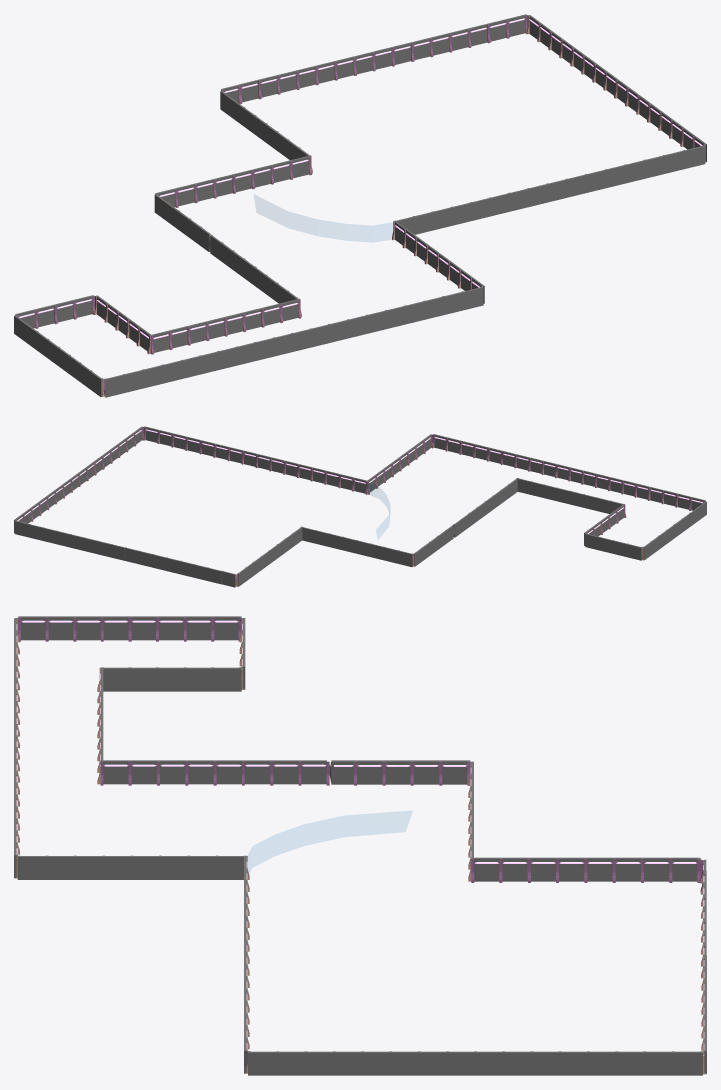
The model's file is wallscomplete.fbx.
3 renders of one model, top to bottom at view 1: azimuth 30°, elevation 25°; view 2: azimuth 150°, elevation 25°; view 3: azimuth 270°, elevation 25°, orthographic. The views are drawn at different scales.
Visible parts, largest first — view 1: wallglass; view 2: wallglass; view 3: wallglass.
Boxes of the visible parts, box(x1,y1,x2,y2) form: wallglass: box(14, 14, 706, 397); wallglass: box(14, 426, 706, 587); wallglass: box(14, 616, 706, 1075).
Bounding box in the file's own units: 407 × 10.35 × 273.
